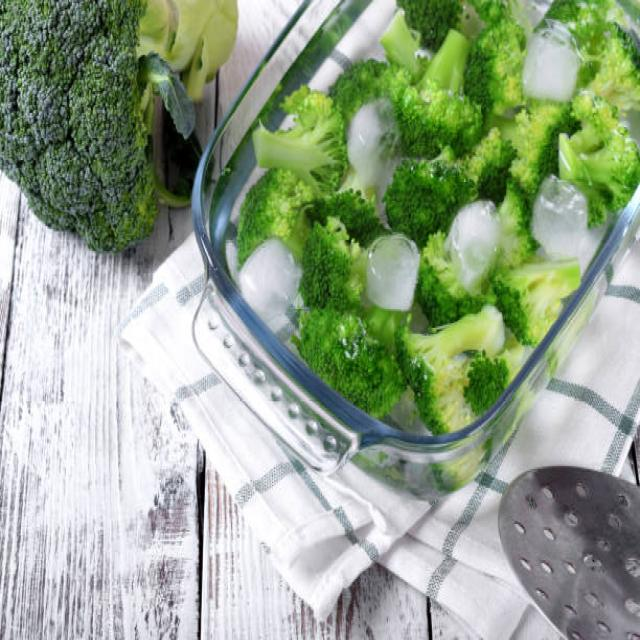broccoli: (0, 0, 179, 255), (406, 316, 522, 439), (260, 92, 368, 200), (306, 298, 398, 392), (376, 147, 479, 226), (498, 245, 586, 324), (571, 104, 638, 202), (412, 41, 480, 131)
